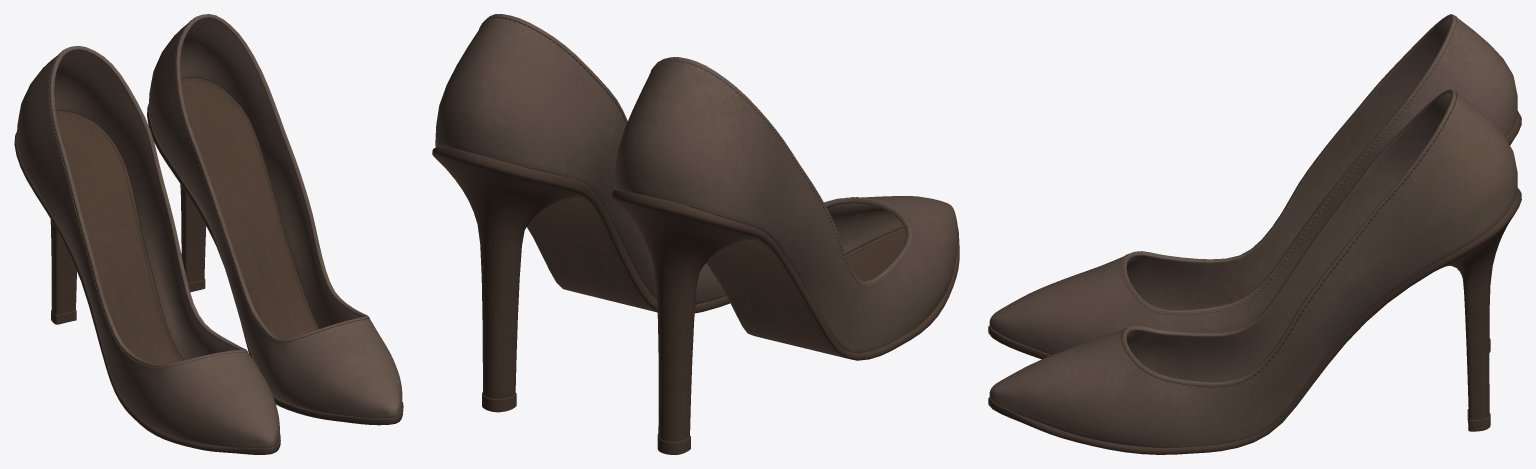
The model's file is Women_HighHeels.fbx.
3 renders of one model, left to right at view 1: azimuth 30°, elevation 25°; view 2: azimuth 150°, elevation 25°; view 3: azimuth 270°, elevation 25°, orthographic. The views are drawn at different scales.
Parts seen in each view (by area): view 1: HighHeels; view 2: HighHeels; view 3: HighHeels.
Part boxes in pixels (<box>): HighHeels: <box>14,14,403,454</box>; HighHeels: <box>432,14,959,454</box>; HighHeels: <box>988,14,1521,454</box>.
Bounding box in the file's own units: 11615 × 13684 × 19812.
Materials: 2 (2 with a texture image).
